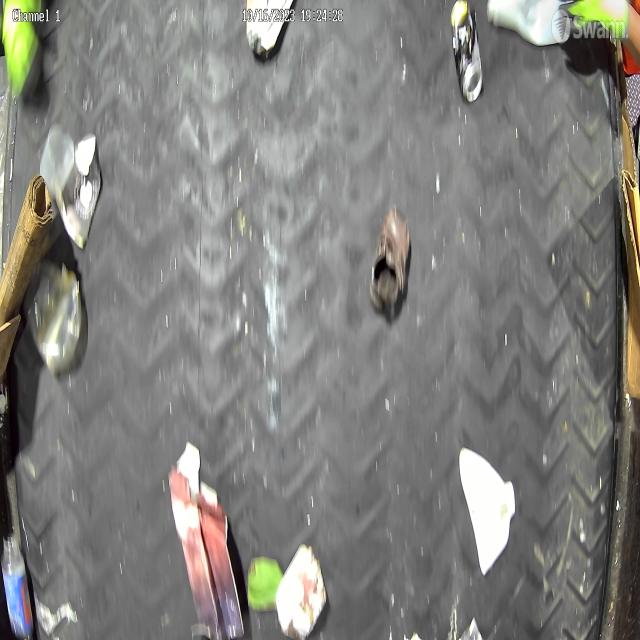can: (450, 0, 483, 103)
